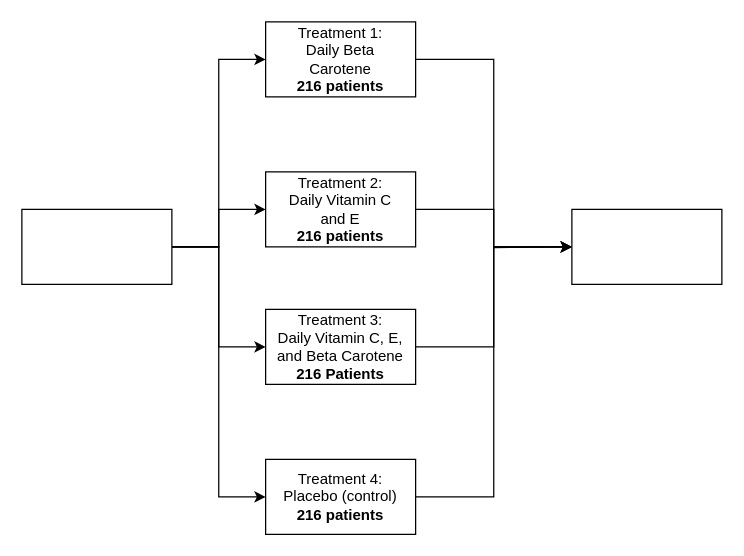
This 744x556 diagram has some shape labels left out. The centre of each missing label's shape, as x and y in pixels:
"Compare the differences in colon cancer between the treatment groups" goes at point (646, 246).
"Subjects at risk of colon cancer 864 patients" goes at point (96, 246).
